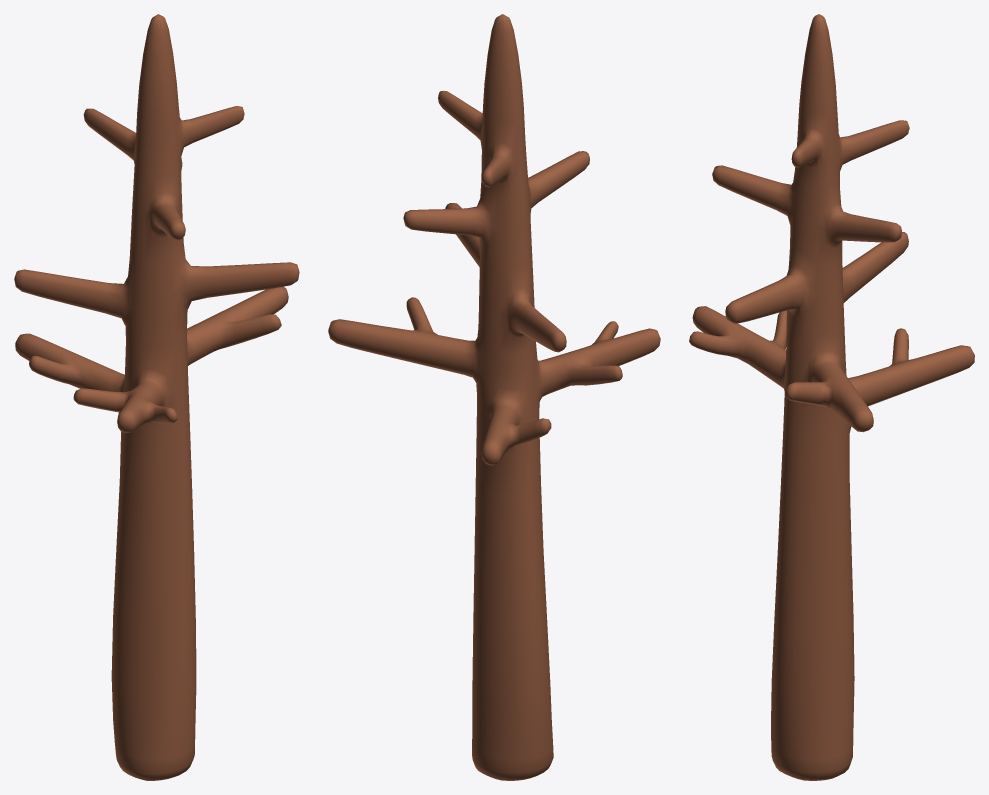
The model's file is DeadTrunk_A_02.fbx.
The picture shows the model from 3 angles, left to right: view 1: azimuth 30°, elevation 25°; view 2: azimuth 150°, elevation 25°; view 3: azimuth 270°, elevation 25°; orthographic projection.
Visible parts, largest first — view 1: DeadTrunk_A_02_LOD0; view 2: DeadTrunk_A_02_LOD0; view 3: DeadTrunk_A_02_LOD0.
Boxes of the visible parts, box(x1,y1,x2,y2) form: DeadTrunk_A_02_LOD0: box(14, 14, 299, 780); DeadTrunk_A_02_LOD0: box(328, 14, 660, 780); DeadTrunk_A_02_LOD0: box(689, 14, 974, 780).
Size of what is drawn, in the model's own units: 451 by 1285 by 437.
